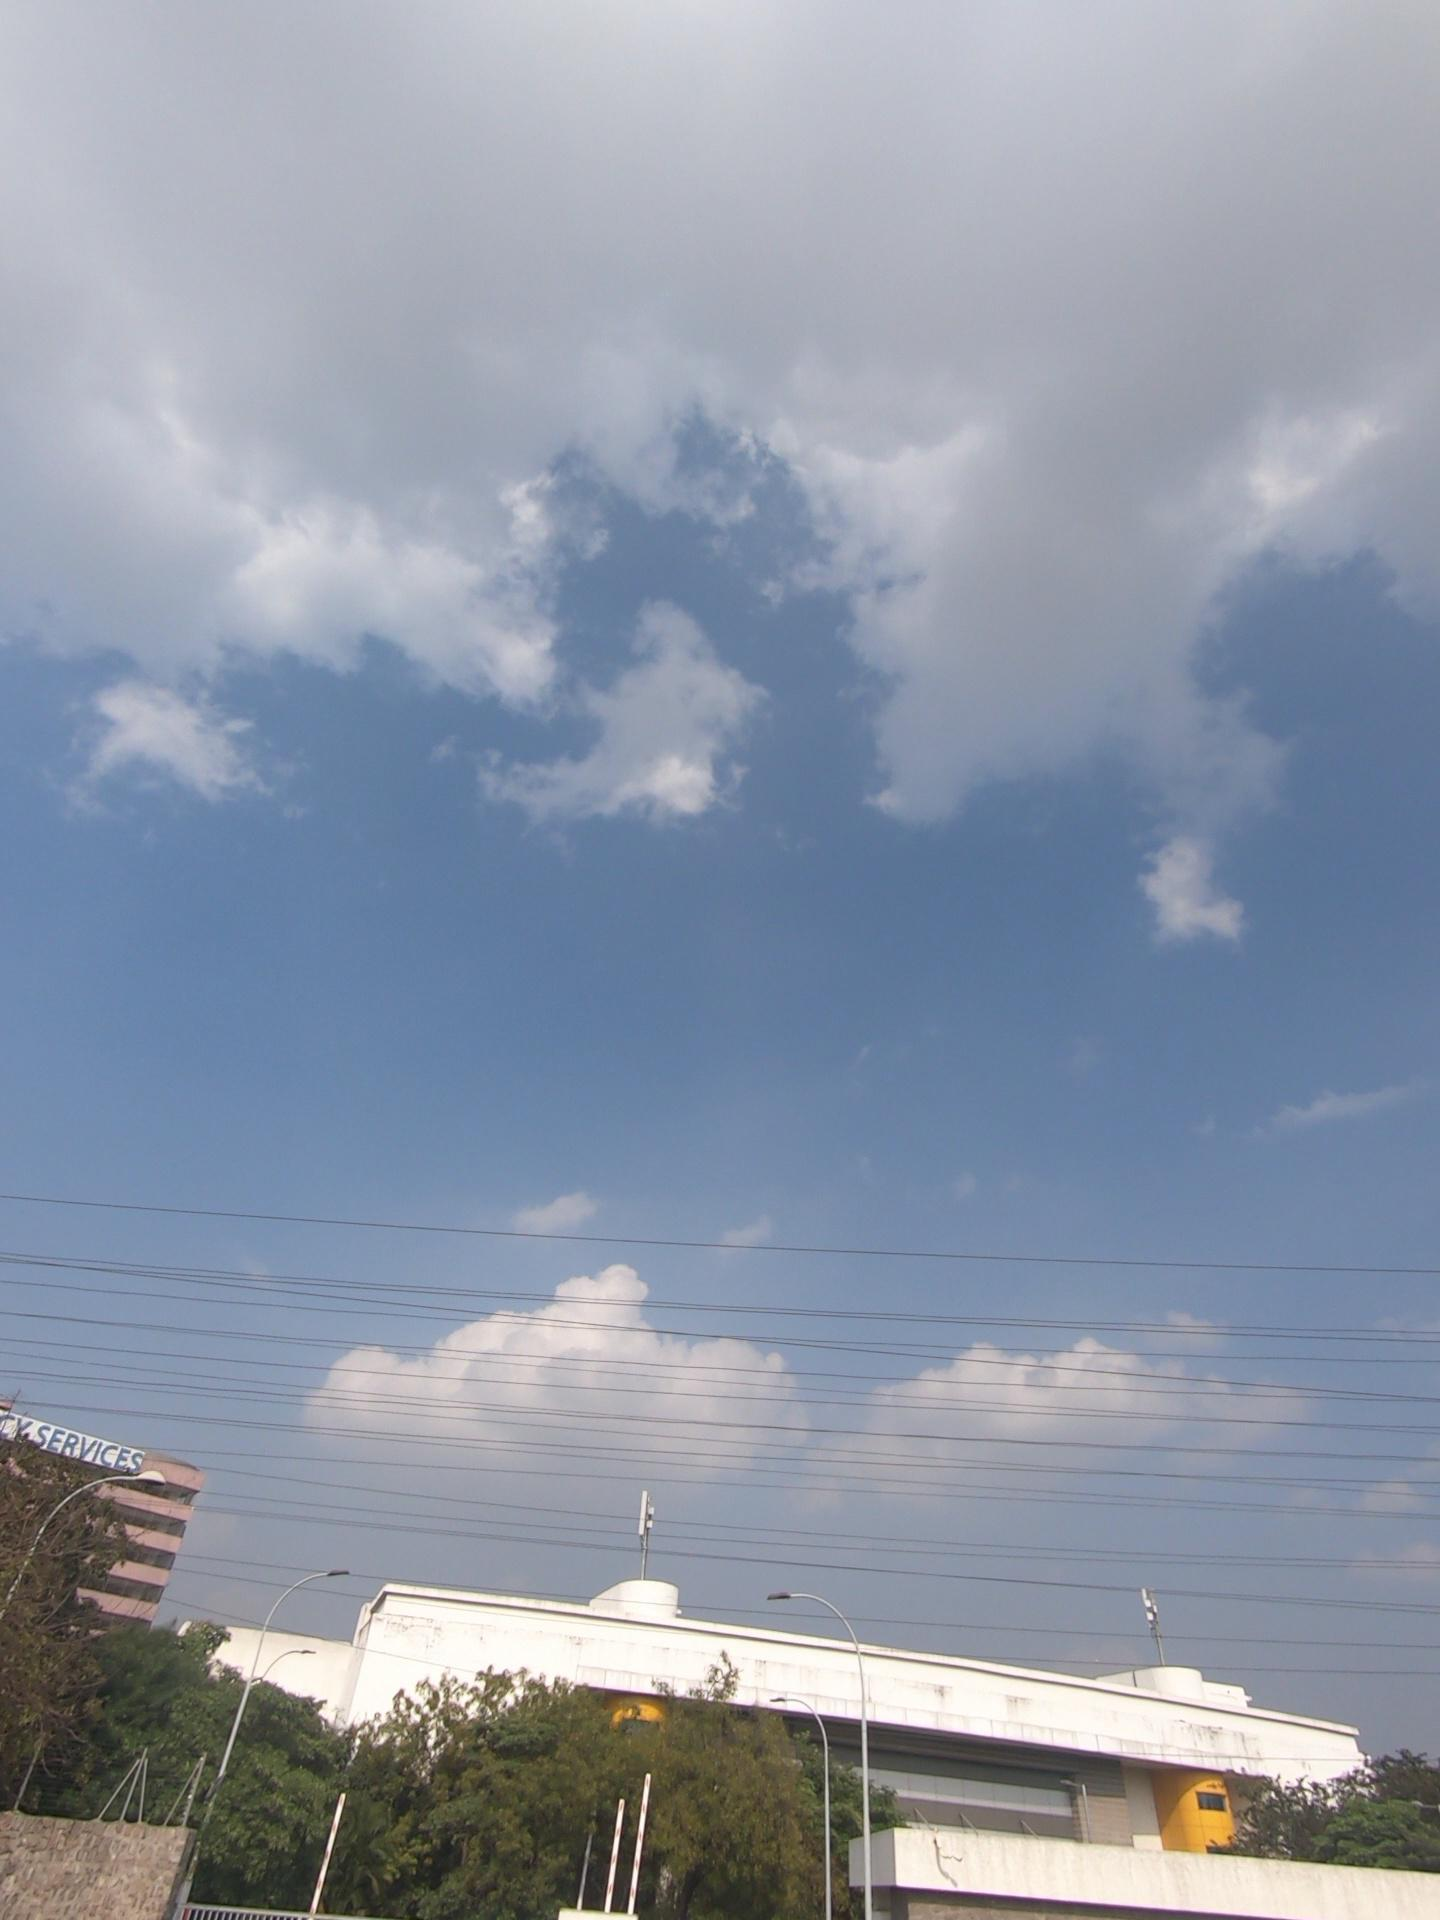off: (590, 1742, 744, 1920)
